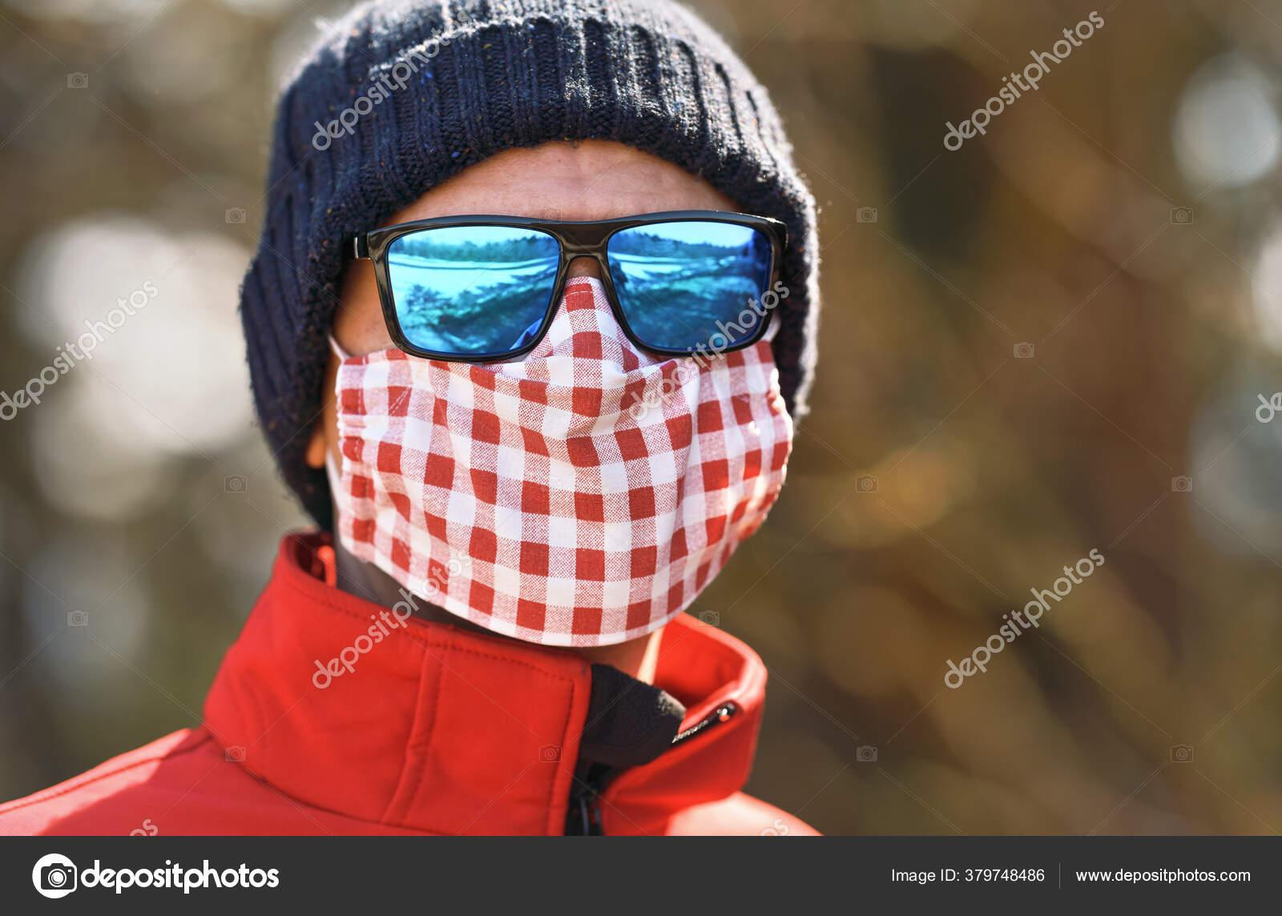cap: (216, 0, 836, 440)
mask: (326, 299, 812, 651)
sunglasses: (366, 182, 799, 382)
